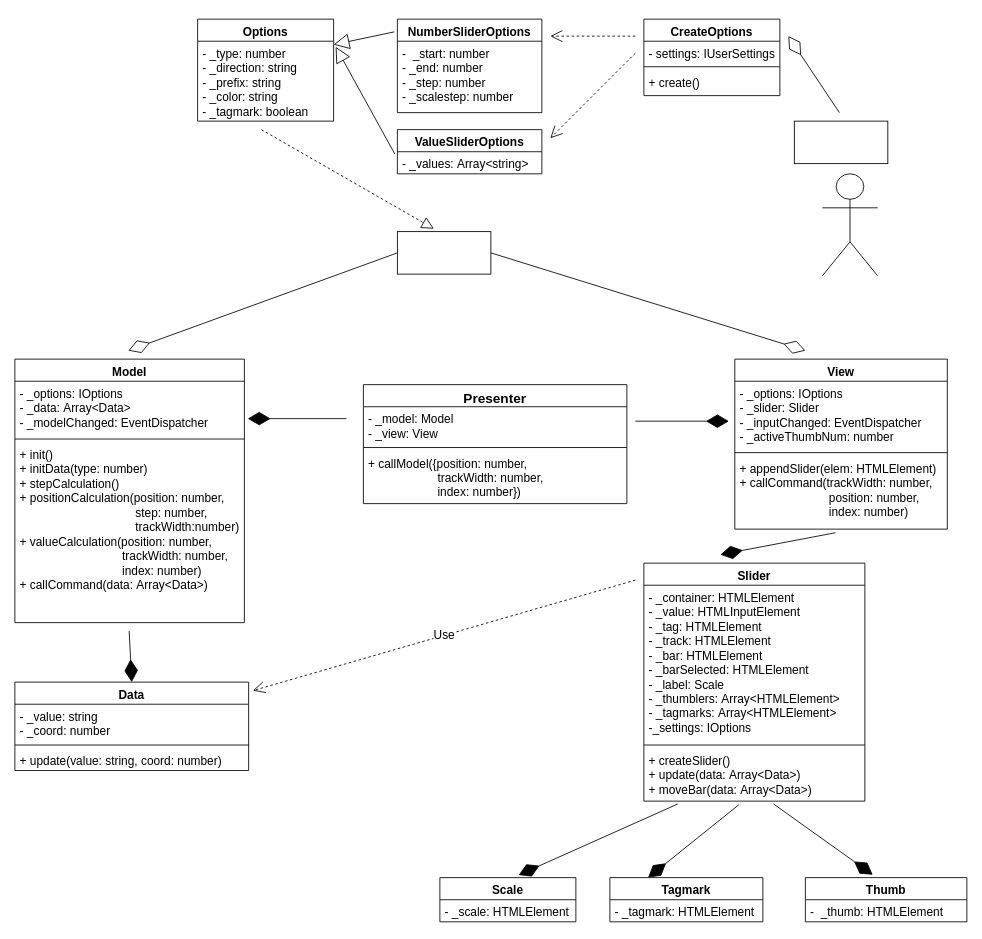
Image size: 982x939. Some labels were removed from this diagram. Here are the shapes that lost their labels. From the top down, the centre of each, then its label:
At (840,142): "«interface» IUserOptions".
At (850,224): "User".
At (444,252): "«interface» IOptions".
